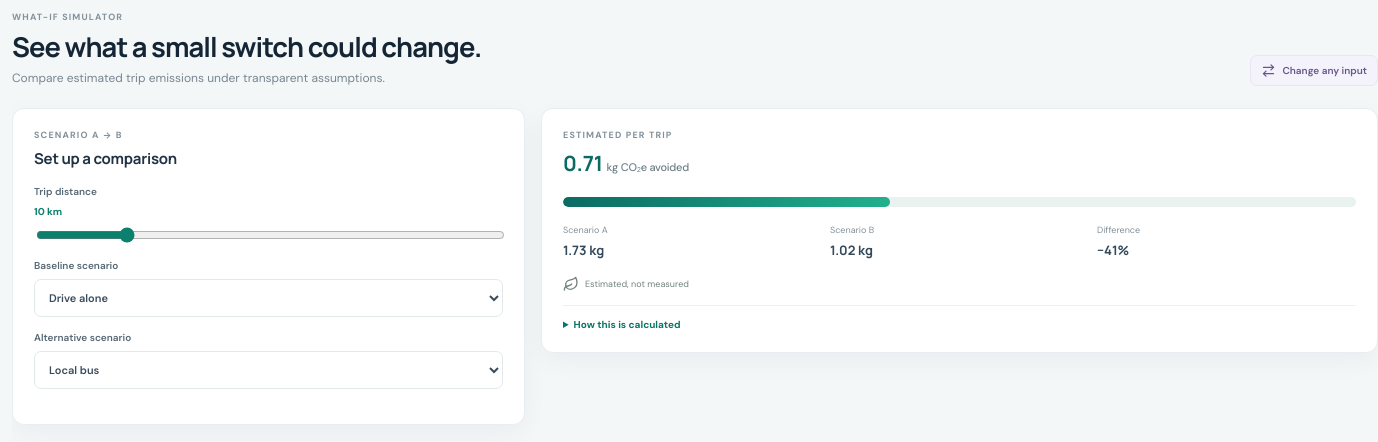
Scenario: accessible critical interactions › does not show a misleading percentage when the baseline has zero emissions
The width and height of the screenshot is (1378, 442).
Select "Walk" in the dropdown labelled "Baseline scenario" at (268, 298), box [34, 279, 503, 317]
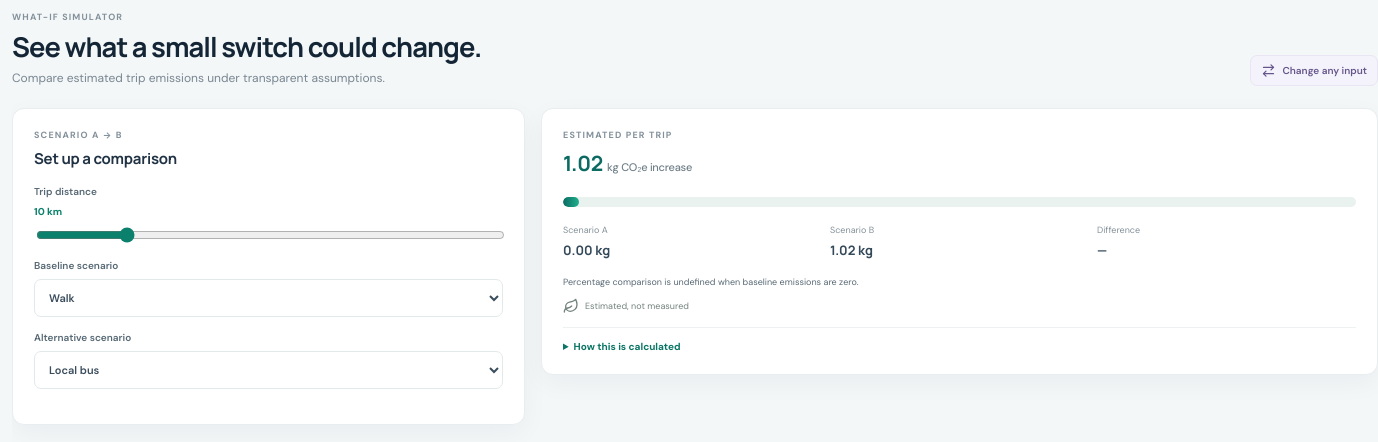
Result: the picture named "baseline emissions are zero" is shown at [563, 197, 1356, 207]
Result: the text "Percentage comparison is undefined when baseline emissions are zero." is shown at [563, 276, 859, 288]
Result: the text "—" is shown at [1097, 241, 1107, 259]
